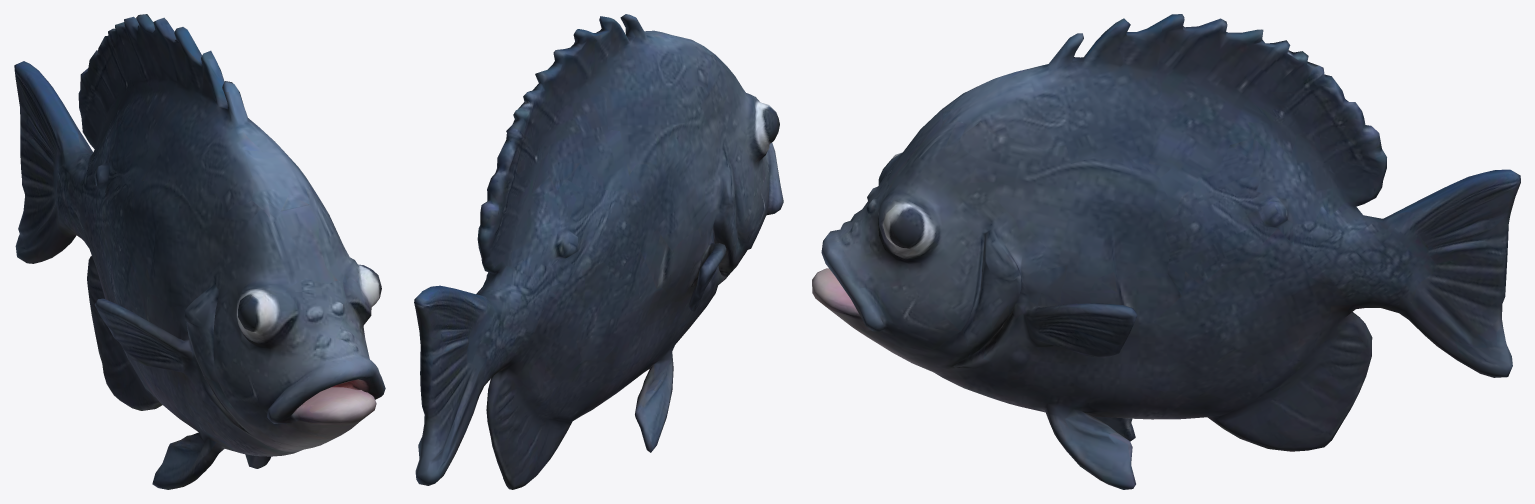
The model's file is gamsungdom.glb.
3 views of the same model, side by side, from view 1: azimuth 30°, elevation 25°; view 2: azimuth 150°, elevation 25°; view 3: azimuth 270°, elevation 25° (orthographic). The views are drawn at different scales.
Visible parts, largest first — view 1: tripo_node_2a587331-a644-4e92-8cbc-dc76175bc554; view 2: tripo_node_2a587331-a644-4e92-8cbc-dc76175bc554; view 3: tripo_node_2a587331-a644-4e92-8cbc-dc76175bc554.
Boxes of the visible parts, bbox=[...] form: tripo_node_2a587331-a644-4e92-8cbc-dc76175bc554: bbox=[14, 14, 385, 489]; tripo_node_2a587331-a644-4e92-8cbc-dc76175bc554: bbox=[414, 14, 783, 489]; tripo_node_2a587331-a644-4e92-8cbc-dc76175bc554: bbox=[812, 14, 1520, 489].
Bounding box in the file's own units: 0.3705 × 0.7032 × 0.999.
1 material, 1 textured.
